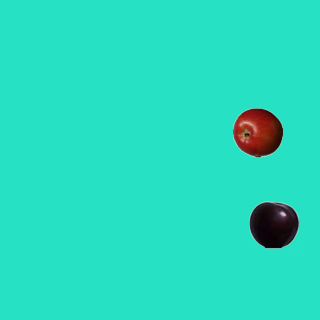Apple Braeburn: (232, 107, 282, 157)
Cherry Wax Black: (248, 199, 298, 249)
